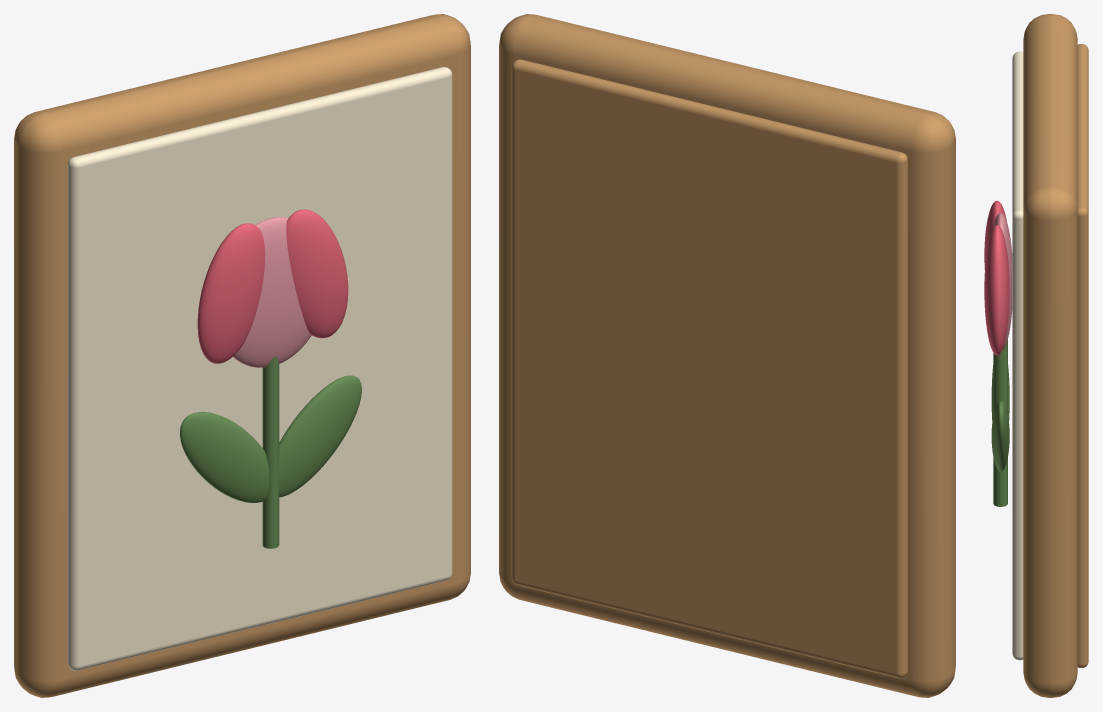
File: WallArtTulip.fbx
3 views of the same model, side by side, from view 1: azimuth 30°, elevation 25°; view 2: azimuth 150°, elevation 25°; view 3: azimuth 270°, elevation 25° (orthographic). The views are drawn at different scales.
Visible parts, largest first — view 1: Inset ivory canvas, Rounded maple frame, Tulip outer petal, Tulip outer petal.001, Tulip center, Tulip leaf, Tulip leaf.001, Tulip thick stem; view 2: Back panel, Rounded maple frame; view 3: Rounded maple frame, Back panel, Inset ivory canvas, Tulip outer petal.001, Tulip thick stem, Tulip leaf.001, Tulip center, Tulip outer petal, Tulip leaf.
Part boxes in pixels (x1,y1,x2,y2): Inset ivory canvas: [67, 67, 452, 670]; Rounded maple frame: [14, 14, 470, 697]; Tulip outer petal: [197, 223, 265, 363]; Tulip outer petal.001: [286, 209, 348, 338]; Tulip center: [233, 217, 311, 367]; Tulip leaf: [180, 412, 269, 502]; Tulip leaf.001: [278, 375, 361, 497]; Tulip thick stem: [262, 356, 279, 548]; Back panel: [511, 59, 907, 678]; Rounded maple frame: [499, 14, 955, 697]; Rounded maple frame: [1023, 14, 1077, 697]; Back panel: [1077, 44, 1088, 667]; Inset ivory canvas: [1012, 51, 1023, 660]; Tulip outer petal.001: [984, 225, 1009, 355]; Tulip thick stem: [993, 339, 1007, 506]; Tulip leaf.001: [991, 400, 1009, 471]; Tulip center: [992, 213, 1012, 350]; Tulip outer petal: [984, 200, 1006, 269]; Tulip leaf: [991, 365, 1009, 420].
Bounding box in the file's own units: 0.5 × 0.62 × 0.115.
5 materials, 5 textured.
